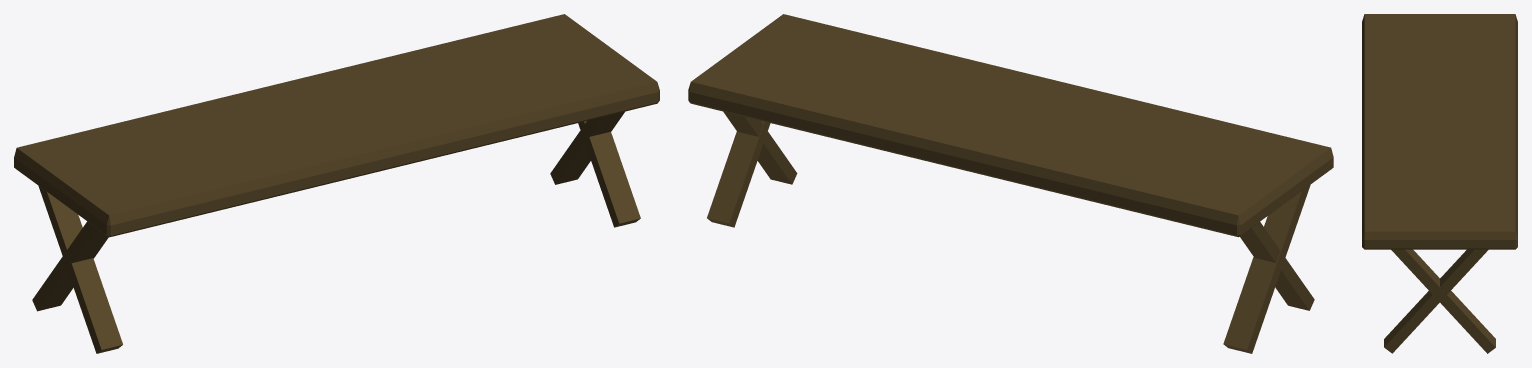
File: gymbench.glb
3 renders of one model, left to right at view 1: azimuth 30°, elevation 25°; view 2: azimuth 150°, elevation 25°; view 3: azimuth 270°, elevation 25°, orthographic. The views are drawn at different scales.
Visible parts, largest first — view 1: Bench1; view 2: Bench1; view 3: Bench1.
Boxes of the visible parts, x1,y1,x2,y2 form: Bench1: (14, 14, 659, 353); Bench1: (688, 14, 1333, 353); Bench1: (1362, 14, 1517, 353).
Size of the model in its own units: 1.98 by 0.5199 by 0.5926.
